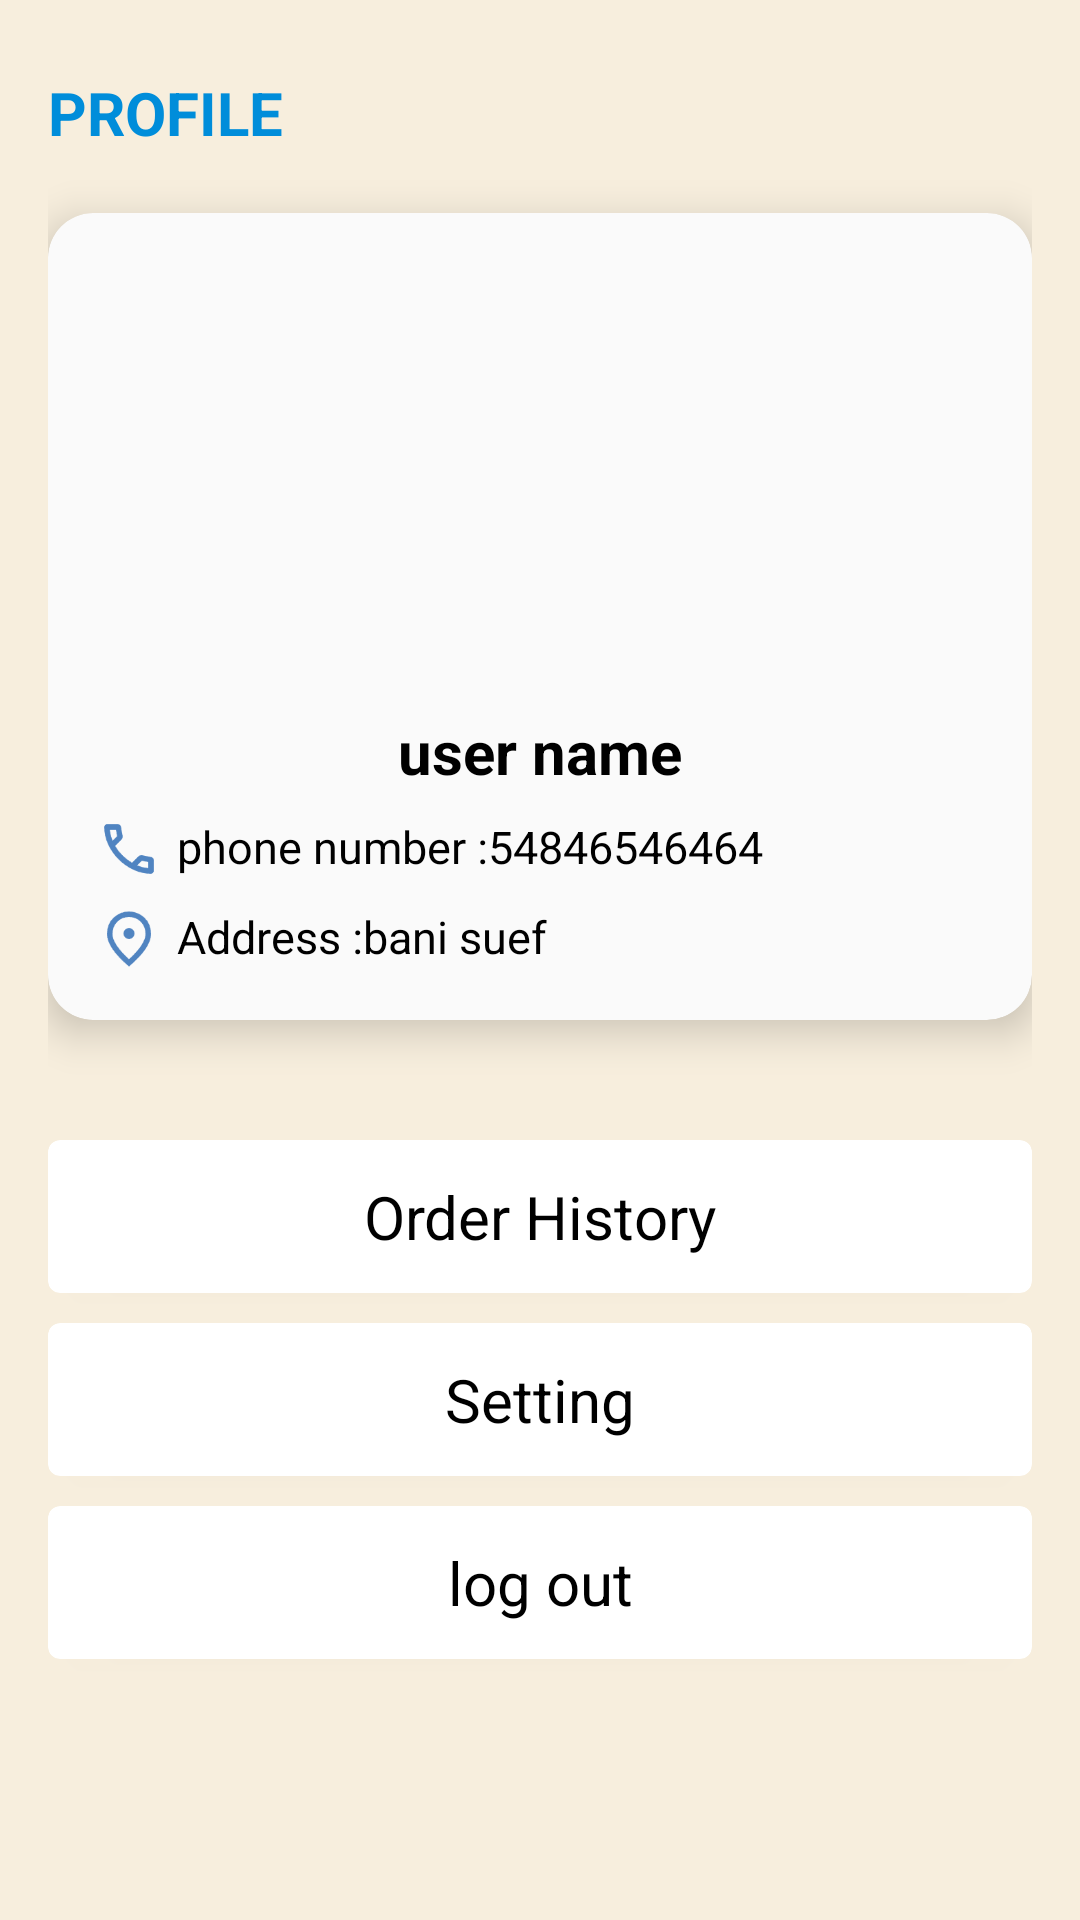

Locate icon controls on the screen. Image size 1080×1920, boxes as (x1, y1, x2, y2).
location: (107, 911, 151, 967)
